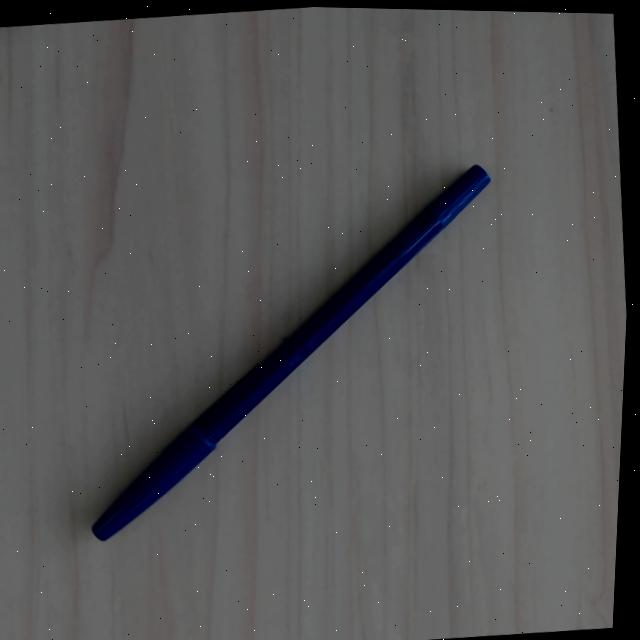Pulpen-Biru: (84, 157, 494, 549)
